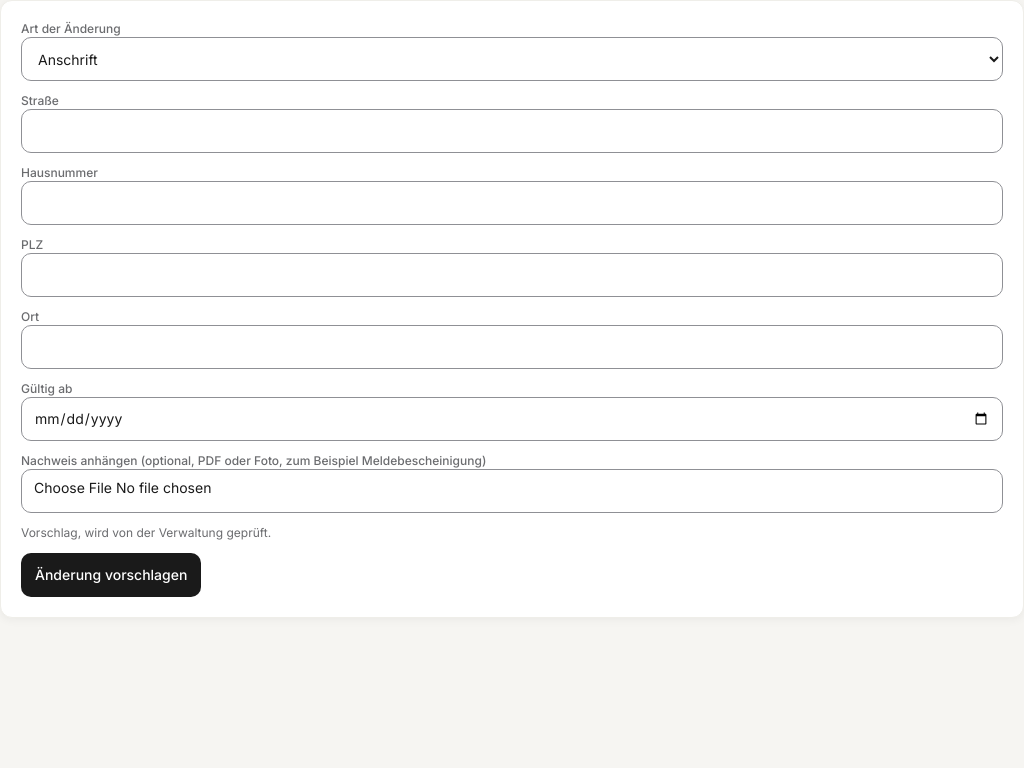
Test: DataChangeForm (address, M21-02) › requires the date from which the address applies
Type "Neue Straße" into the field labelled "Straße" at coordinates (512, 131), box [21,109,1003,153]
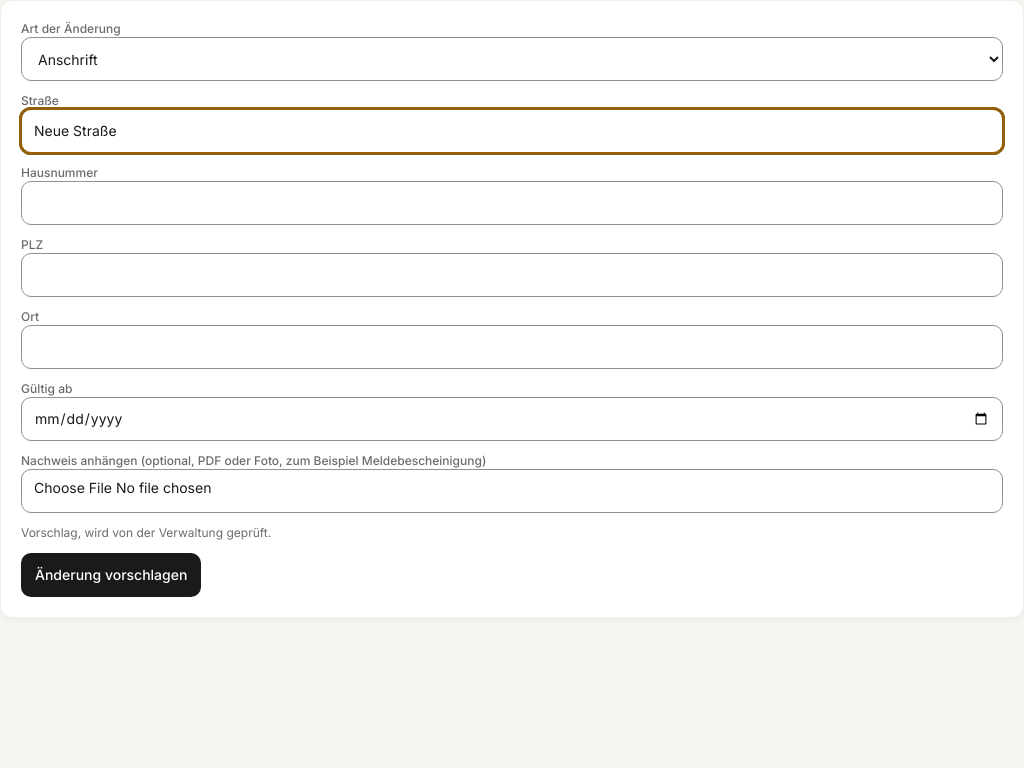
Type "40213" into the field labelled "PLZ" at coordinates (512, 275), box [21,253,1003,297]
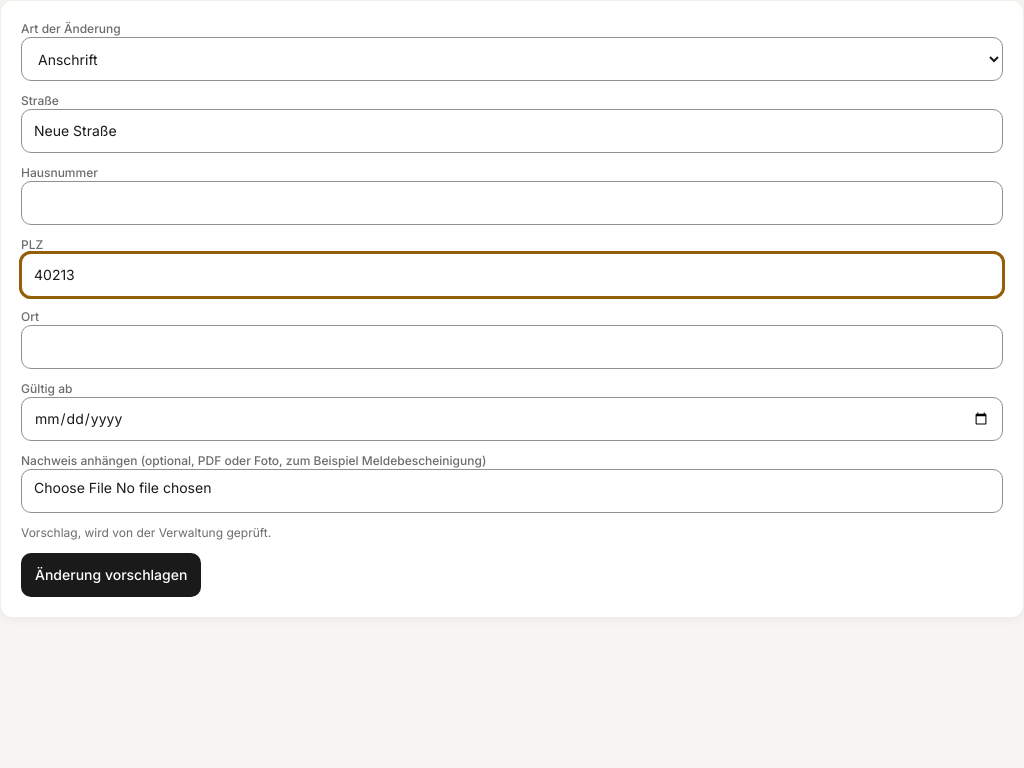
Type "Düsseldorf" into the field labelled "Ort" at coordinates (512, 347), box [21,325,1003,369]
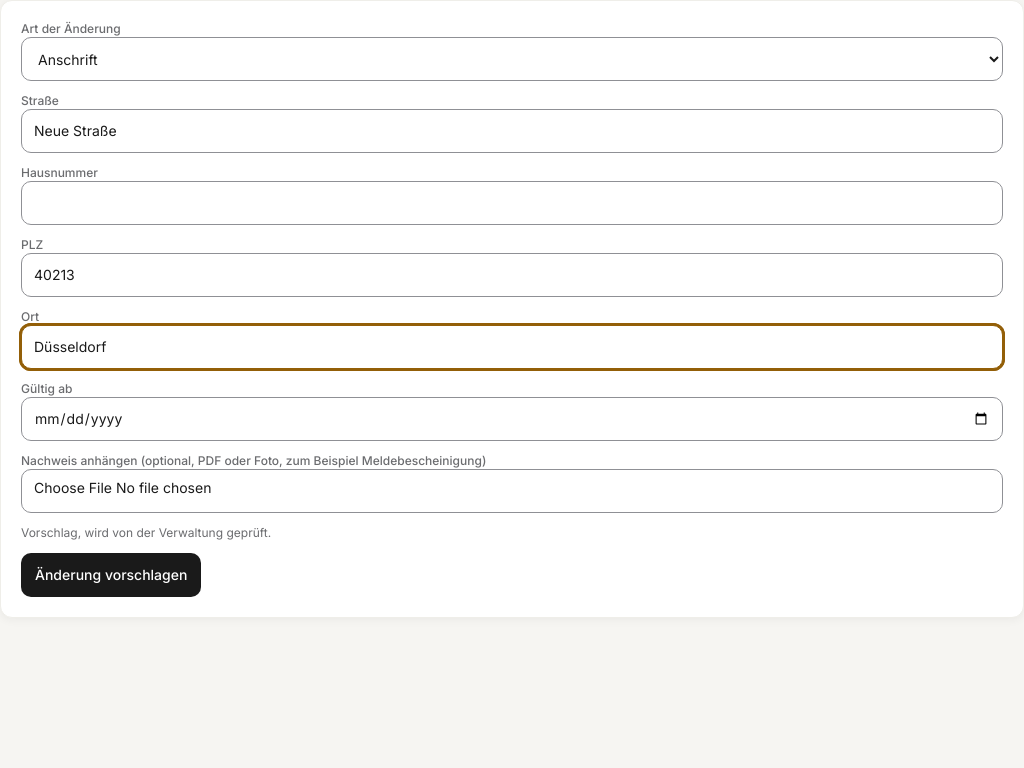
Click the button "Änderung vorschlagen" at coordinates (111, 575), box [21,553,201,597]
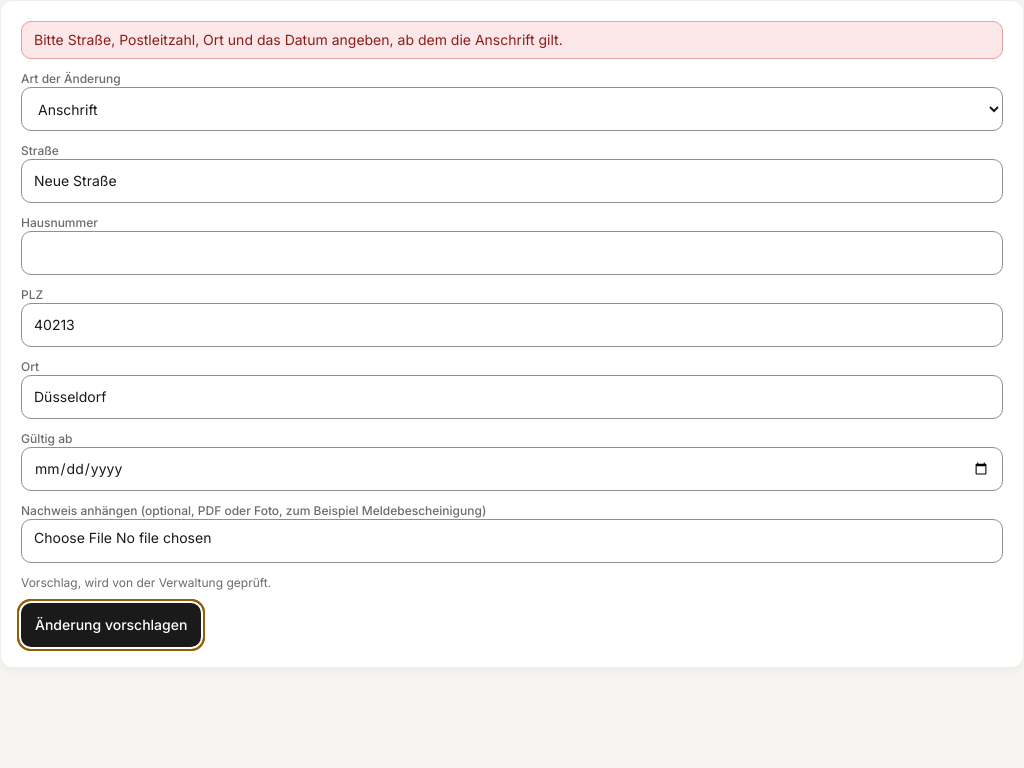
expect the message shows "ab dem die Anschrift gilt": met, box [34,31,563,48]
